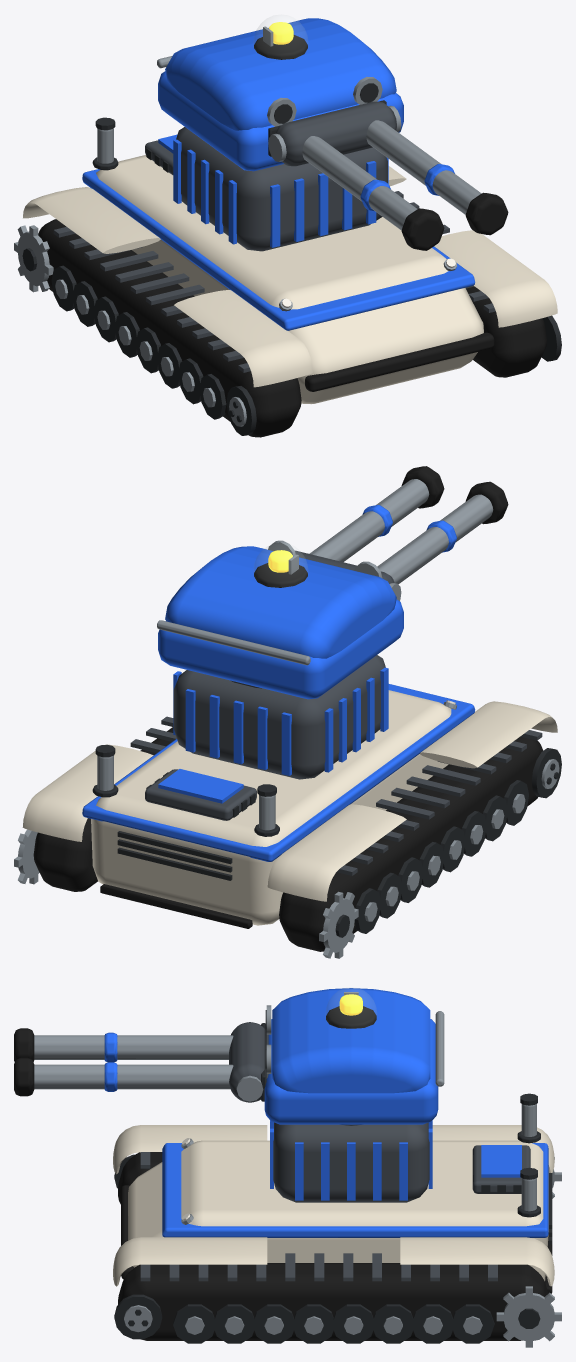
The model's file is mammoth_tank.glb.
3 views of the same model, one above another, from view 1: azimuth 30°, elevation 25°; view 2: azimuth 150°, elevation 25°; view 3: azimuth 270°, elevation 25° (orthographic). The views are drawn at different scales.
Visible parts, largest first — view 1: hull__M_CreamPlastic, turret__M_Team, gear__M_Licorice, hull__M_Team, hull__M_SmokePlastic, gear__M_Dark, trunnion__M_SmokePlastic, tread_r__M_SmokePlastic, barrel_l__M_SpringSteel, barrel_r__M_SpringSteel, hull__M_Licorice, crown__M_ClearGlass (+11 smaller); view 2: hull__M_CreamPlastic, turret__M_Team, hull__M_Team, hull__M_SmokePlastic, gear__M_Licorice, gear__M_Dark, tread_r__M_SmokePlastic, barrel_r__M_SpringSteel, barrel_l__M_SpringSteel, hull__M_Dark, turret__M_SpringSteel, crown__M_ClearGlass (+9 smaller); view 3: hull__M_CreamPlastic, turret__M_Team, gear__M_Licorice, hull__M_Team, hull__M_SmokePlastic, gear__M_Dark, barrel_l__M_SpringSteel, barrel_r__M_SpringSteel, tread_l__M_SmokePlastic, gear__M_SpringSteel, sprocket_l__M_SpringSteel, trunnion__M_SmokePlastic (+13 smaller).
Boxes of the visible parts, x1,y1,x2,y2 form: hull__M_CreamPlastic: (23, 155, 557, 404); turret__M_Team: (158, 18, 403, 171); gear__M_Licorice: (38, 219, 546, 437); hull__M_Team: (82, 134, 475, 330); hull__M_SmokePlastic: (145, 127, 387, 251); gear__M_Dark: (51, 265, 226, 419); trunnion__M_SmokePlastic: (275, 101, 396, 166); tread_r__M_SmokePlastic: (53, 227, 250, 372); barrel_l__M_SpringSteel: (366, 120, 481, 214); barrel_r__M_SpringSteel: (302, 136, 417, 230); hull__M_Licorice: (305, 332, 494, 391); crown__M_ClearGlass: (254, 15, 307, 58); hull__M_CreamPlastic: (22, 690, 557, 925); turret__M_Team: (158, 546, 403, 699); hull__M_Team: (82, 667, 475, 861); hull__M_SmokePlastic: (145, 655, 385, 820); gear__M_Licorice: (33, 727, 543, 951); gear__M_Dark: (354, 780, 528, 933); tread_r__M_SmokePlastic: (336, 730, 542, 875); barrel_r__M_SpringSteel: (377, 494, 493, 584); barrel_l__M_SpringSteel: (309, 479, 429, 562); hull__M_Dark: (117, 772, 255, 880); turret__M_SpringSteel: (157, 540, 382, 665); crown__M_ClearGlass: (254, 543, 307, 587); hull__M_CreamPlastic: (113, 1125, 554, 1286); turret__M_Team: (264, 988, 438, 1124); gear__M_Licorice: (118, 1152, 548, 1340); hull__M_Team: (162, 1120, 548, 1237); hull__M_SmokePlastic: (273, 1122, 530, 1202); gear__M_Dark: (173, 1304, 494, 1343); barrel_l__M_SpringSteel: (34, 1064, 233, 1089); barrel_r__M_SpringSteel: (34, 1035, 233, 1059); tread_l__M_SmokePlastic: (140, 1253, 497, 1281); gear__M_SpringSteel: (185, 1316, 482, 1334); sprocket_l__M_SpringSteel: (496, 1286, 561, 1347); trunnion__M_SmokePlastic: (229, 1022, 268, 1102).
Size of the model in its own units: 1.2 by 1.1 by 1.89.
